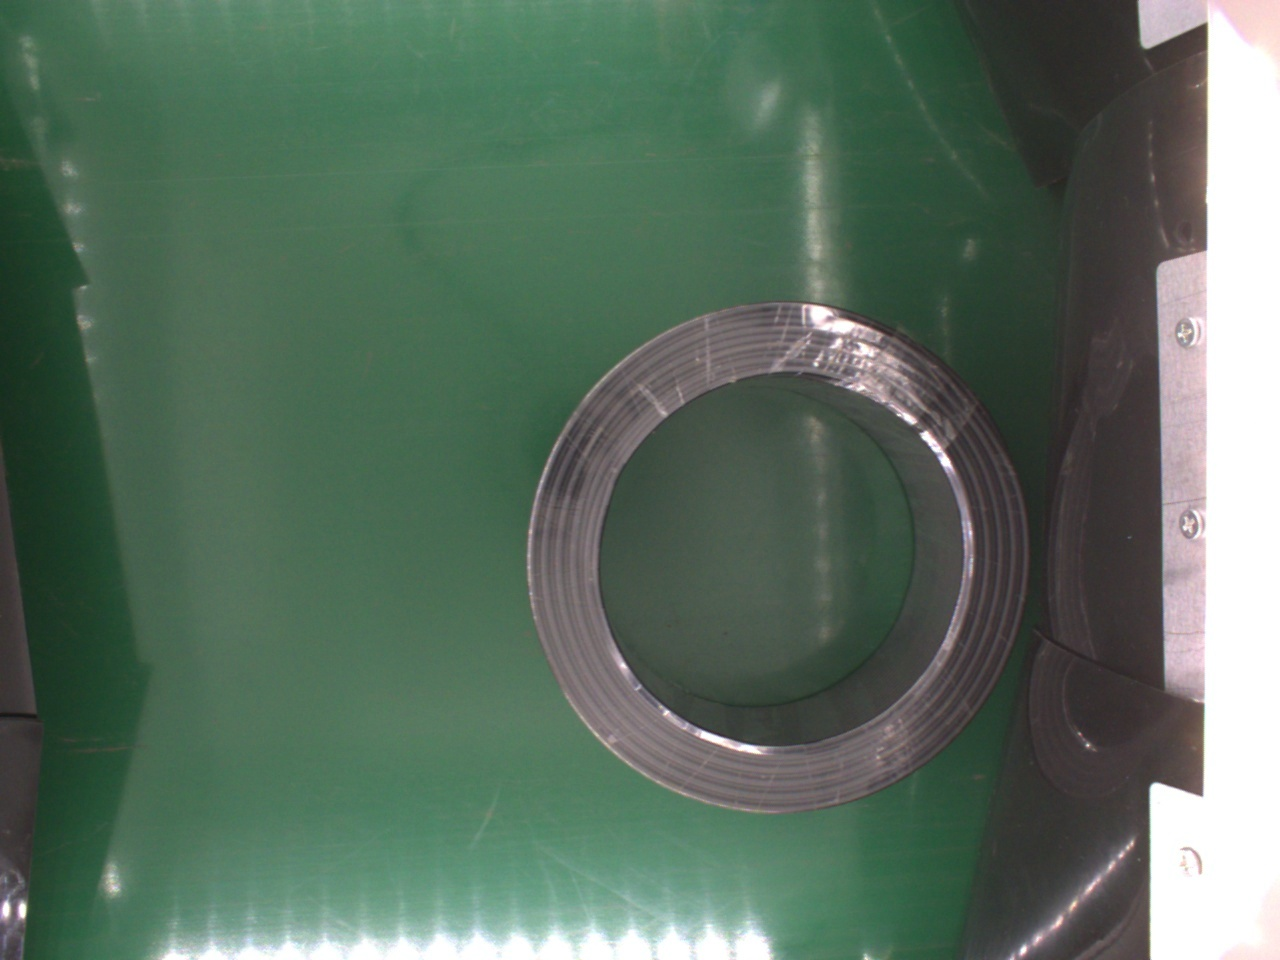black: (521, 303, 1032, 816)
